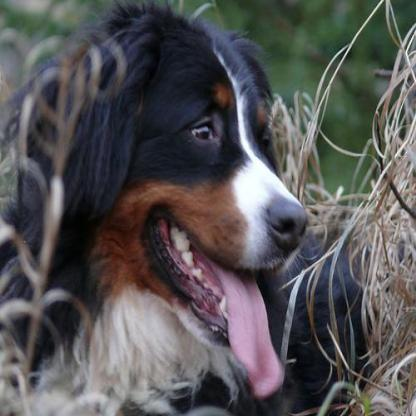Bernese_mountain_dog: (0, 0, 376, 414)
